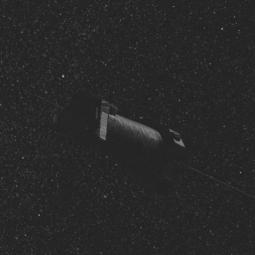xmm_newton: (63, 86, 208, 182)
